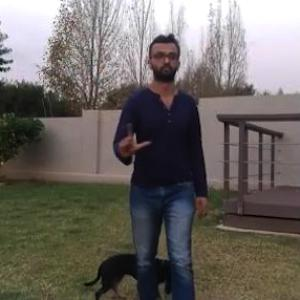land_hand: (109, 118, 153, 160)
